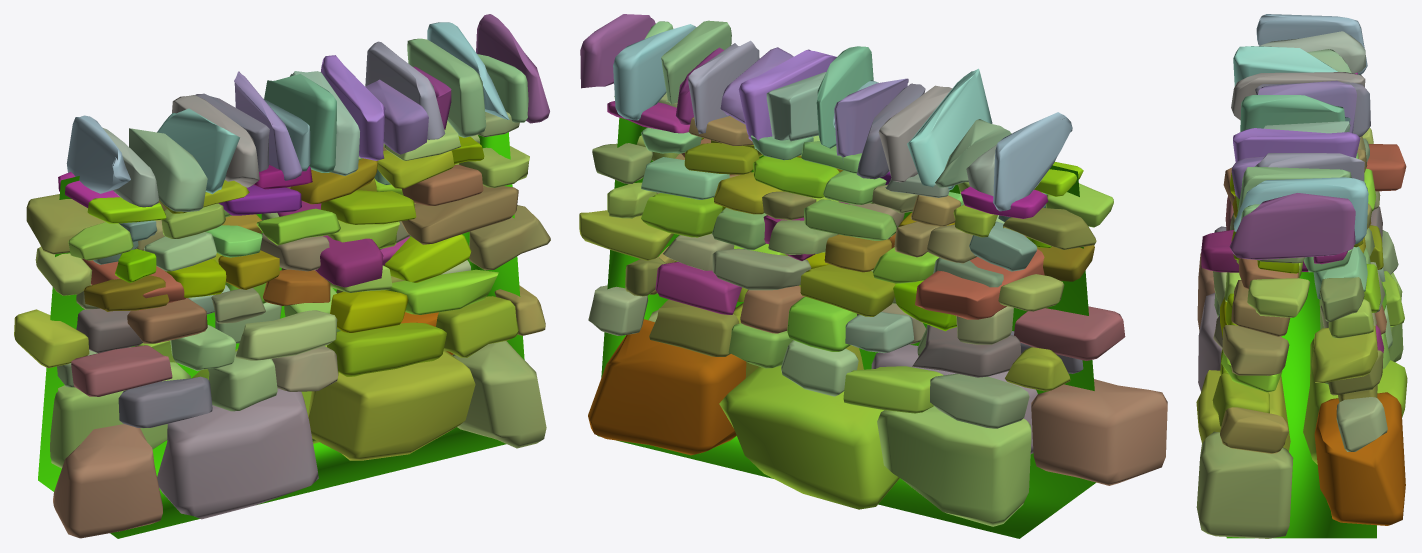
File: SM_Prop_wall_stone_2.glb
3 renders of one model, left to right at view 1: azimuth 30°, elevation 25°; view 2: azimuth 150°, elevation 25°; view 3: azimuth 270°, elevation 25°, orthographic. The views are drawn at different scales.
Parts seen in each view (by area): view 1: SM_Prop_wall_stone_2; view 2: SM_Prop_wall_stone_2; view 3: SM_Prop_wall_stone_2.
Part boxes in pixels (left/top/right/bottom): SM_Prop_wall_stone_2: left=14, top=14, right=550, bottom=538; SM_Prop_wall_stone_2: left=579, top=14, right=1167, bottom=538; SM_Prop_wall_stone_2: left=1196, top=14, right=1407, bottom=538.
Size of the model in its own units: 2.38 by 1.74 by 0.9266.
